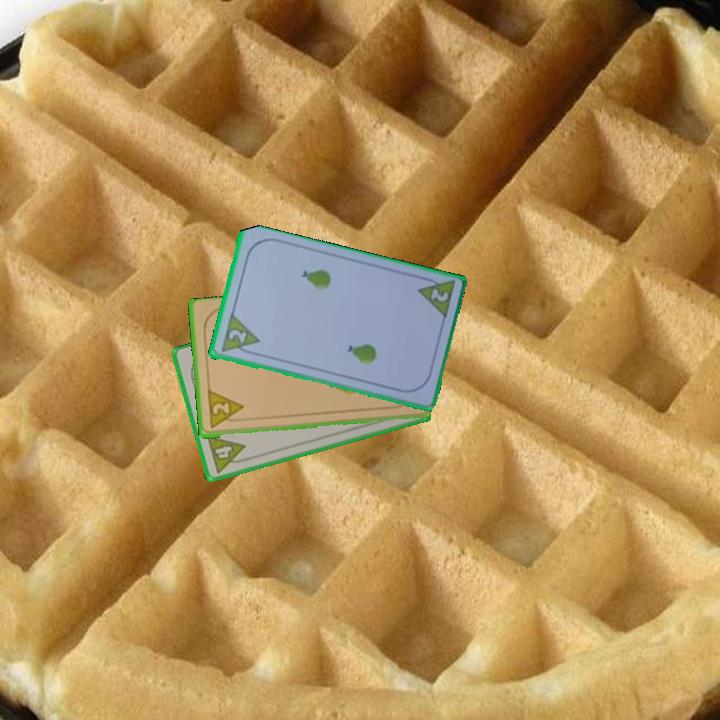2p: (413, 273, 458, 322), (204, 388, 247, 432), (224, 326, 250, 347)
4p: (203, 432, 251, 476)
